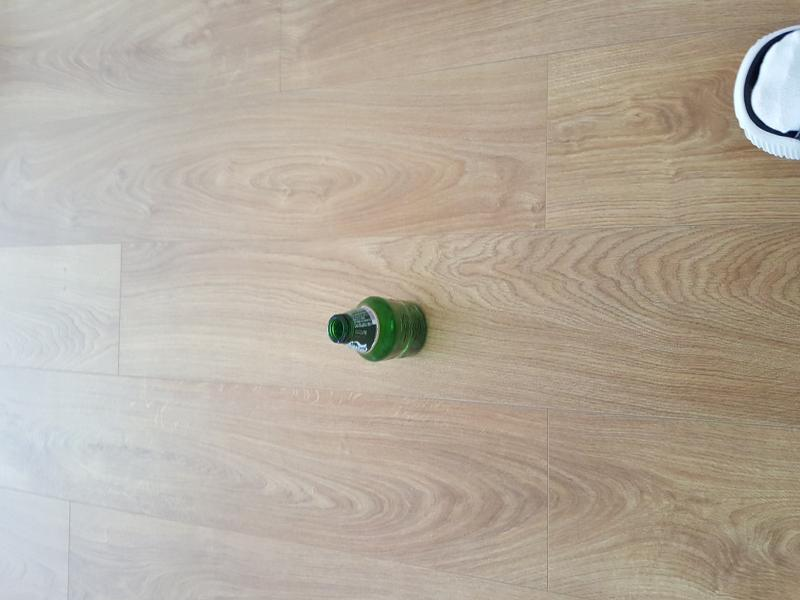Beer: (328, 291, 428, 359)
